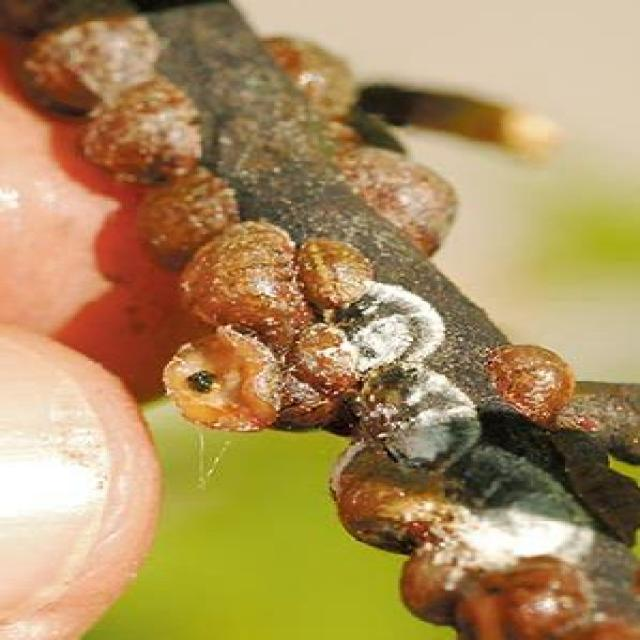Black Scale: (0, 0, 638, 638)
